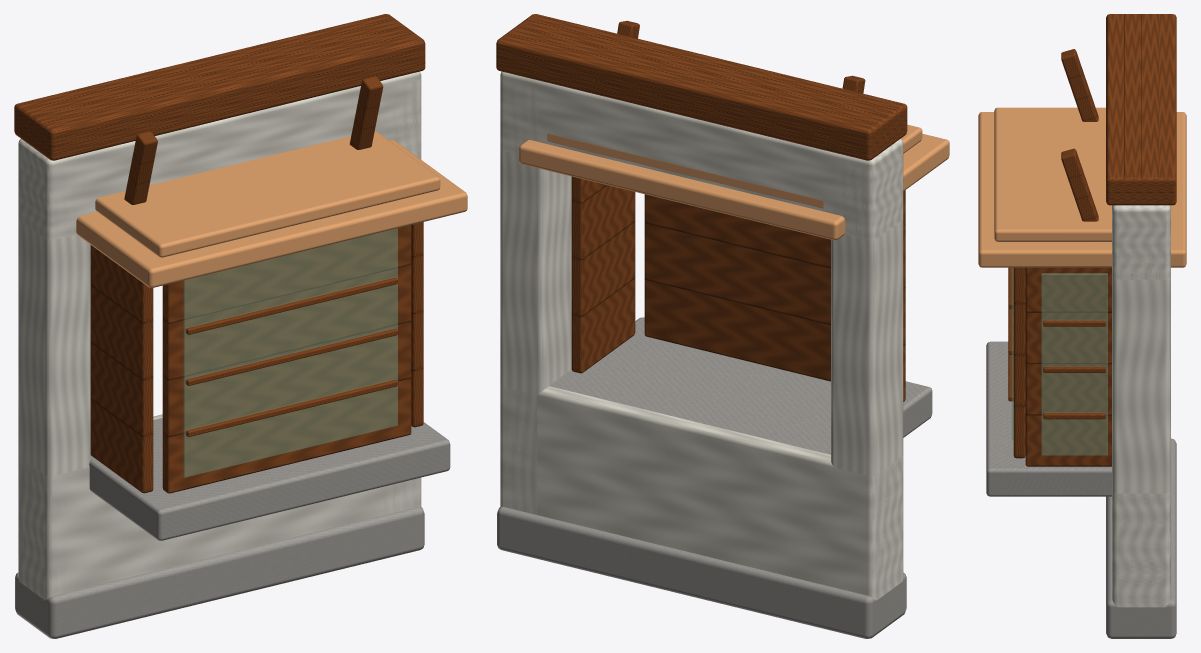
Rendered from witch-cottage-and-apothecary-cob-wall-bay-window-secti-105e1d45__32434.glb.
3 renders of one model, left to right at view 1: azimuth 30°, elevation 25°; view 2: azimuth 150°, elevation 25°; view 3: azimuth 270°, elevation 25°, orthographic. The views are drawn at different scales.
Visible parts, largest first — view 1: cob-wall-bay-window-section; view 2: cob-wall-bay-window-section; view 3: cob-wall-bay-window-section.
Part boxes in pixels (bbox=[...]): cob-wall-bay-window-section: bbox=[14, 14, 467, 638]; cob-wall-bay-window-section: bbox=[496, 14, 949, 638]; cob-wall-bay-window-section: bbox=[978, 14, 1186, 638].
Bounding box in the file's own units: 2 × 2.6 × 1.06.
5 materials, 3 textured.
